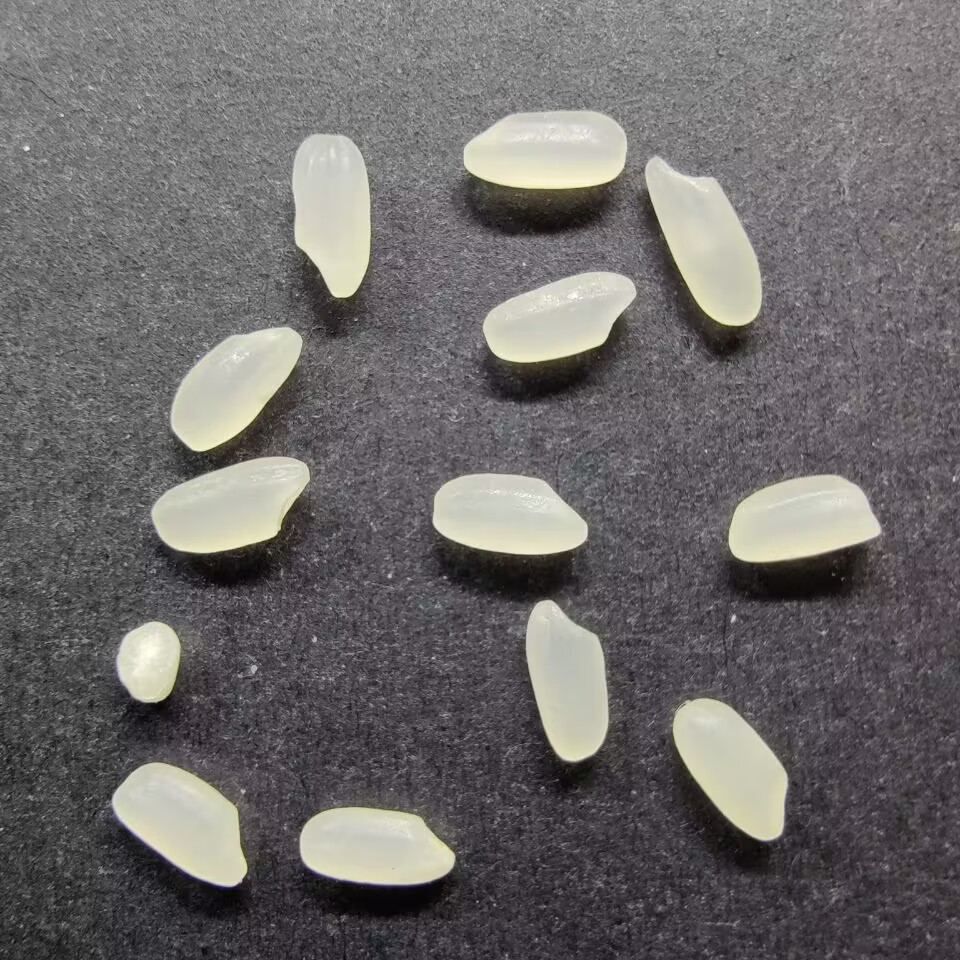broken: (112, 619, 183, 705)
rice: (642, 154, 766, 327), (109, 759, 248, 888), (167, 324, 304, 453), (672, 696, 789, 842), (149, 455, 311, 553), (725, 472, 882, 565), (482, 270, 637, 364), (523, 598, 611, 763), (430, 470, 589, 557), (460, 109, 629, 189), (290, 133, 371, 299), (297, 806, 456, 886)
